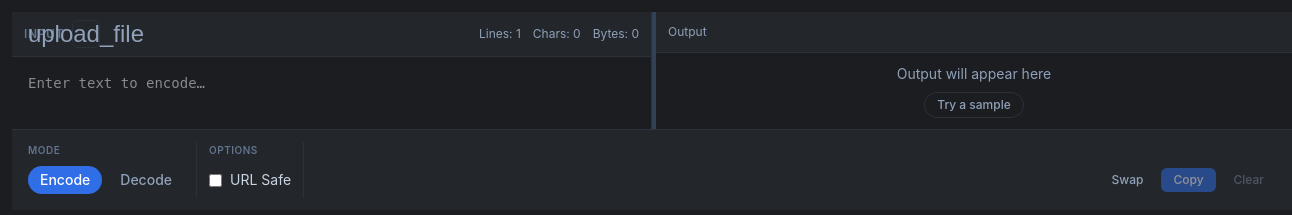
Test: Base64Tool › clear button empties both panels
Type "foo" into the text box named "base64 input text" at [332, 93], box 12,57 -> 651,129
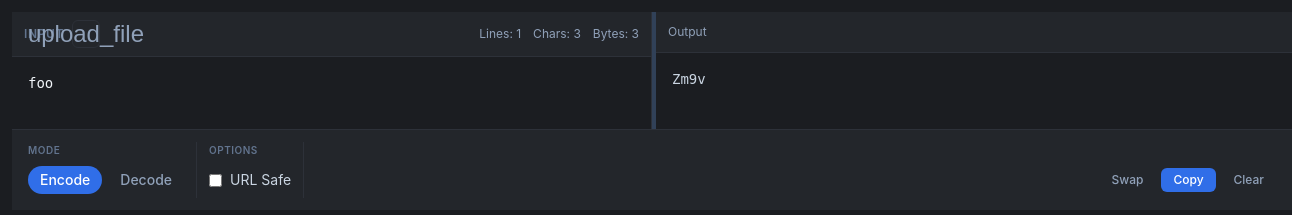
Click the button with aria-label "clear input and output" at [1249, 180], box 1222,168 -> 1276,192
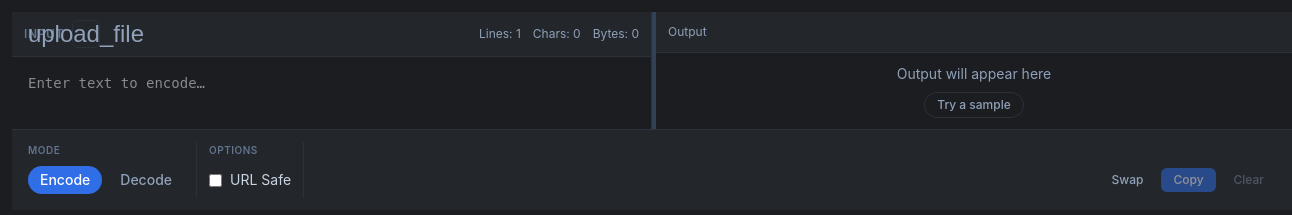
Expected: the text box named "base64 input text" is empty, 12,57 -> 651,129
Expected: the element named "base64 output" shows "Output will appear here", 897,65 -> 1051,82
